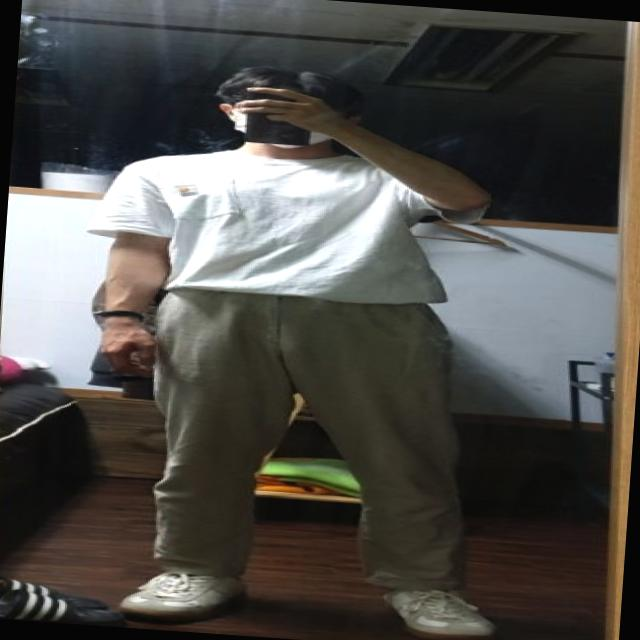cottonpants: (137, 280, 485, 595)
shortsleeve: (89, 132, 492, 308)
